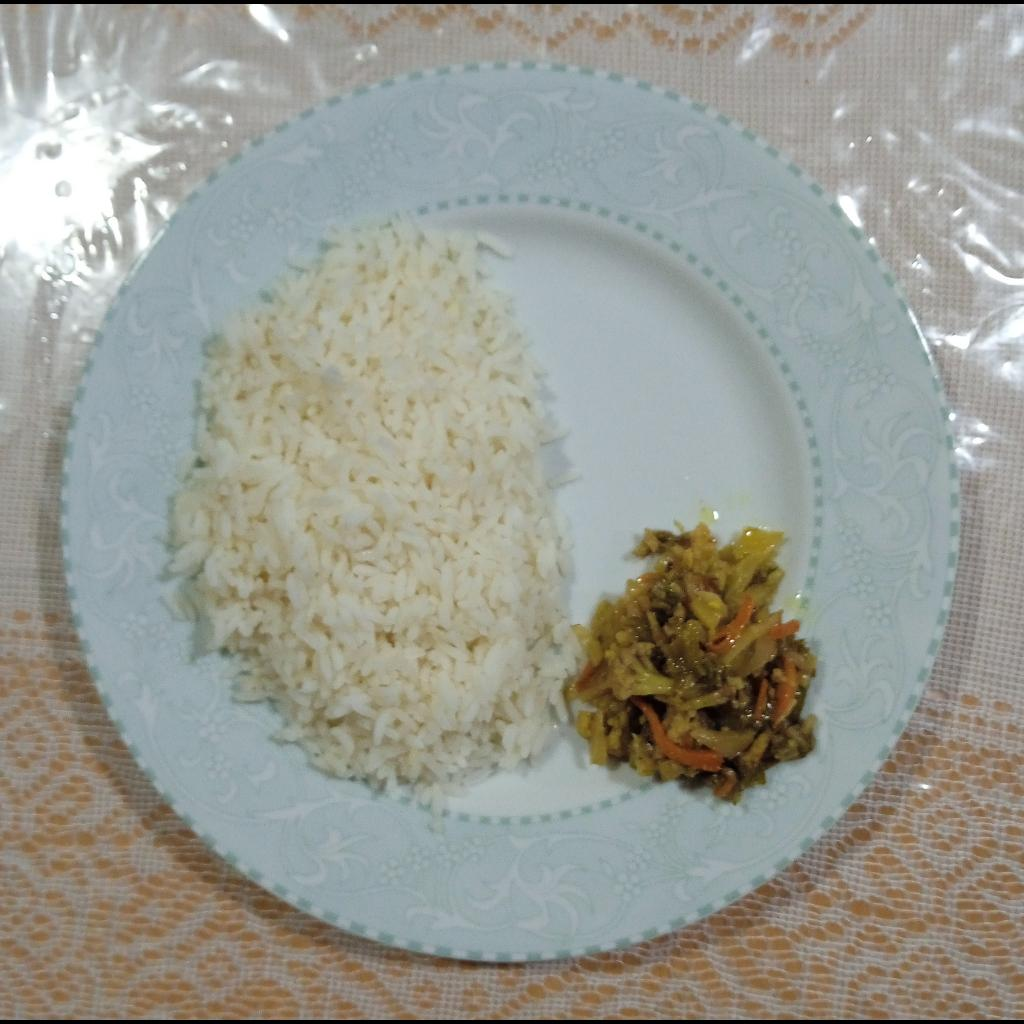rice: (175, 235, 568, 789)
vegetable: (577, 532, 827, 800)
